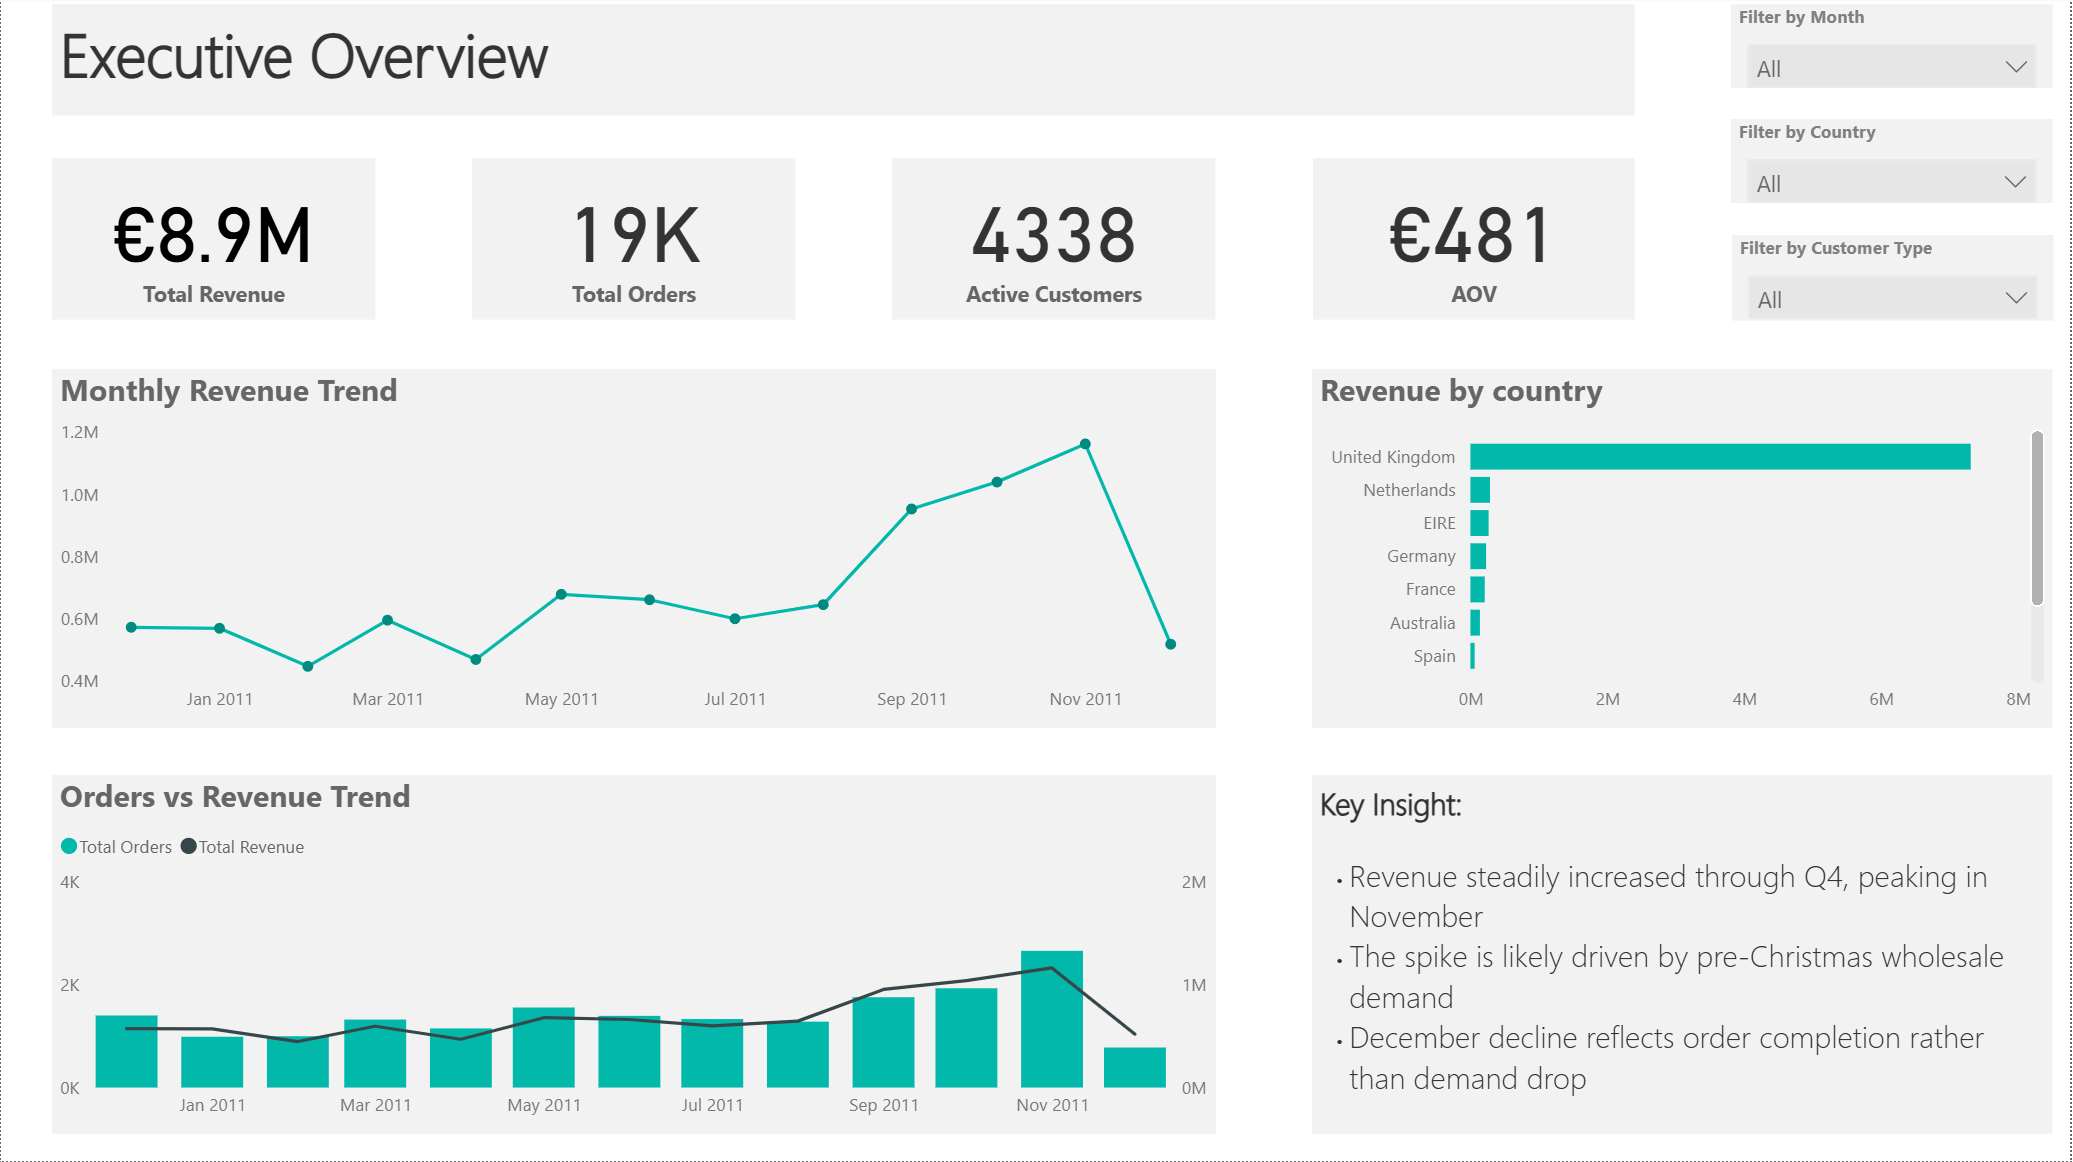

The page's visual inventory and layout, read from the dashboard file:
{"tool":"powerbi","page":{"name":"Executive Overview","canvas":[1280,720],"ordinal":0},"visuals":[{"type":"card","fields":{"Values":["public v_retail_clean.Total Revenue"]},"box":[31.5,99.6,200.4,100.2],"z":0},{"type":"card","fields":{"Values":["public v_retail_clean.Total Orders"]},"box":[291.3,99.6,200.4,100.2],"z":1000},{"type":"card","fields":{"Values":["public v_retail_clean.Active Customers"]},"box":[551.1,99.6,200.4,100.2],"z":2000},{"type":"card","fields":{"Values":["public v_retail_clean.AOV"]},"box":[811.5,99.6,199.2,100.2],"z":3000},{"type":"textbox","box":[31.5,4.5,979.2,69.3],"z":4000},{"type":"lineChart","title":"Monthly Revenue Trend","fields":{"Category":["public v_retail_clean.Month"],"Y":["public v_retail_clean.Total Revenue"]},"box":[31.5,230.2,720,222],"z":5000},{"type":"barChart","title":"Revenue by country","fields":{"Category":["public v_retail_clean.country"],"Y":["public v_retail_clean.Total Revenue"]},"box":[810.9,230.1,457.7,222.1],"z":6000},{"type":"lineClusteredColumnComboChart","title":"Orders vs Revenue Trend","fields":{"Y":["public v_retail_clean.Total Orders"],"Y2":["public v_retail_clean.Total Revenue"],"Category":["public v_retail_clean.Month"]},"box":[31.5,481.2,720,222],"z":7000},{"type":"textbox","box":[810.9,481.2,457.7,222.1],"z":8000},{"type":"slicer","title":"Filter by Month","fields":{"Values":["public v_retail_clean.Month"]},"box":[1070.1,4.3,199.2,52],"z":9000},{"type":"slicer","title":"Filter by Country","fields":{"Values":["public v_retail_clean.country"]},"box":[1070.1,75.8,198.6,52],"z":10000},{"type":"slicer","title":"Filter by Customer Type","fields":{"Values":["Customer Type.CustomerType"]},"box":[1070.7,147.2,198.6,52.6],"z":11000}]}

Visuals, with their boxes in screenshot pixels (x1, y1, x2, y2), scaled from the page's 1280x720 canvas onto the 2073x1162 screenshot:
card - public v_retail_clean.Total Revenue: box(51, 161, 376, 322)
card - public v_retail_clean.Total Orders: box(472, 161, 796, 322)
card - public v_retail_clean.Active Customers: box(893, 161, 1217, 322)
card - public v_retail_clean.AOV: box(1314, 161, 1637, 322)
textbox: box(51, 7, 1637, 119)
"Monthly Revenue Trend" lineChart: box(51, 372, 1217, 730)
"Revenue by country" barChart: box(1313, 371, 2055, 730)
"Orders vs Revenue Trend" lineClusteredColumnComboChart: box(51, 777, 1217, 1135)
textbox: box(1313, 777, 2055, 1135)
"Filter by Month" slicer: box(1733, 7, 2056, 91)
"Filter by Country" slicer: box(1733, 122, 2055, 206)
"Filter by Customer Type" slicer: box(1734, 238, 2056, 322)
